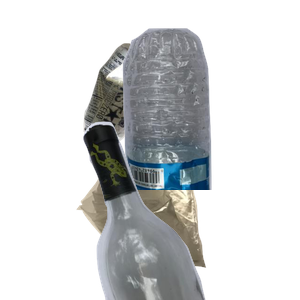glass: (81, 120, 300, 300)
metal: (81, 41, 234, 178)
plastic: (111, 26, 300, 206)
trash: (74, 148, 273, 300)
